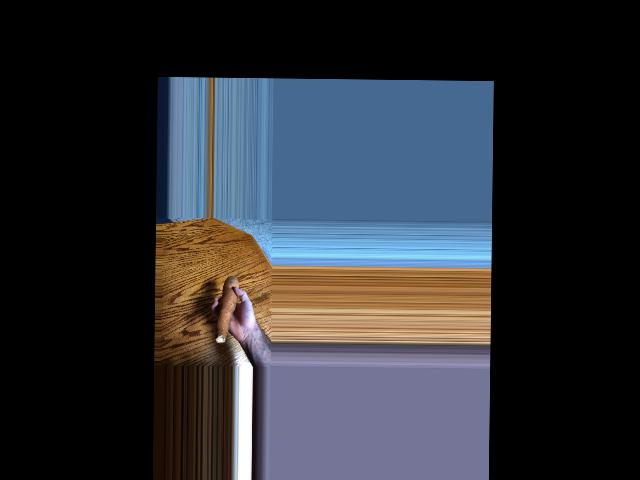sweet_potato: (214, 272, 235, 348)
